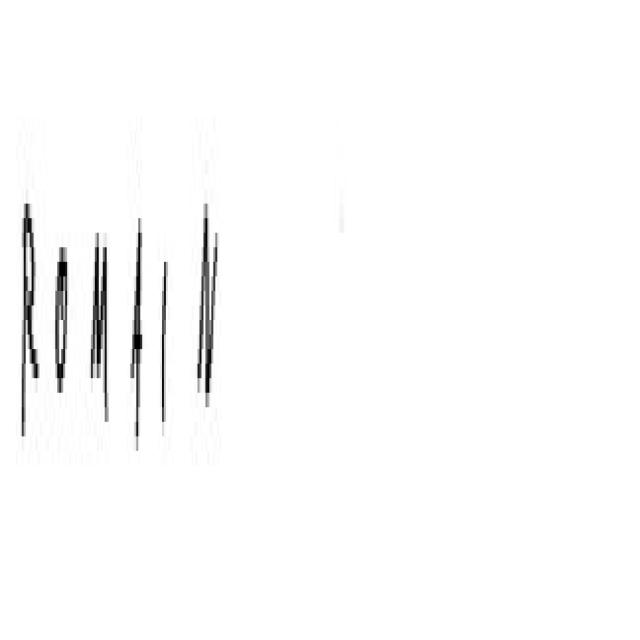A: (124, 174, 152, 543)
I: (158, 221, 185, 551)
M: (82, 146, 117, 502)
N: (193, 170, 234, 525)
O: (52, 132, 78, 521)
R: (14, 156, 50, 487)
